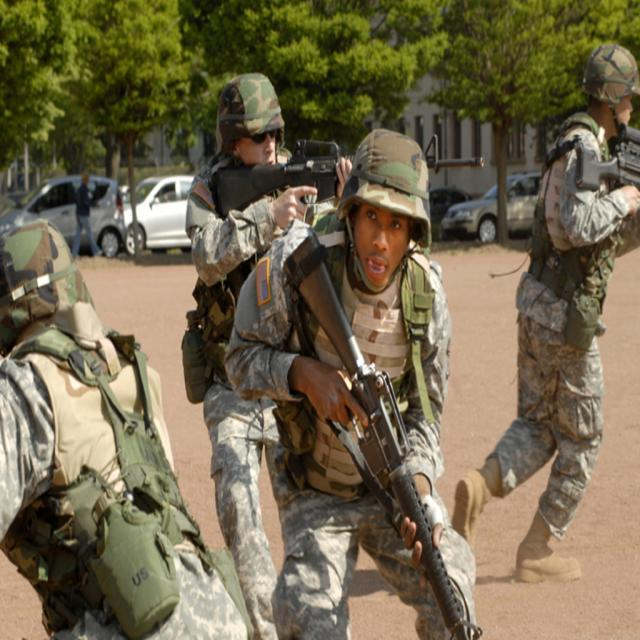weapon: (264, 250, 474, 630), (209, 133, 488, 214), (572, 116, 640, 196)
